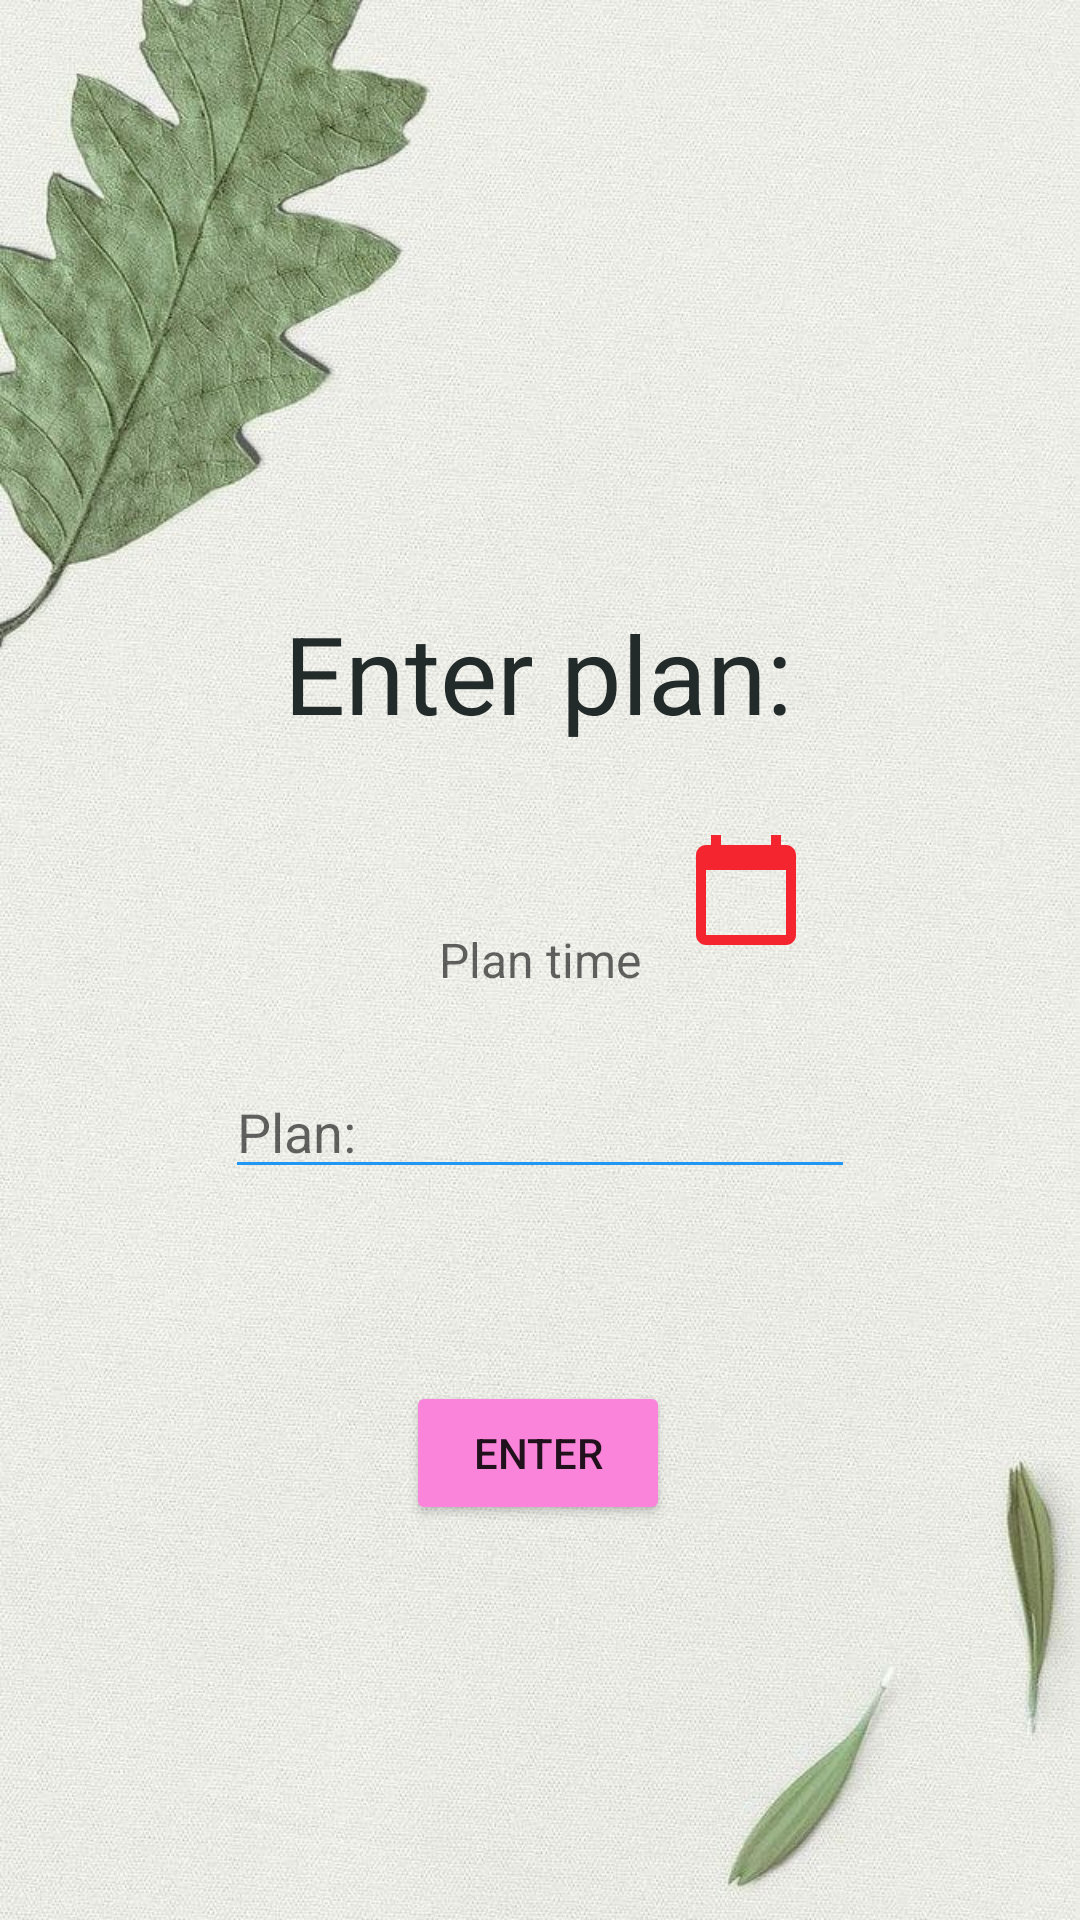

Named icons in this screenshot (1080w x 1920h) and their bounding boxes, (x1, y1, x2, y2):
calender: (687, 831, 805, 947)
